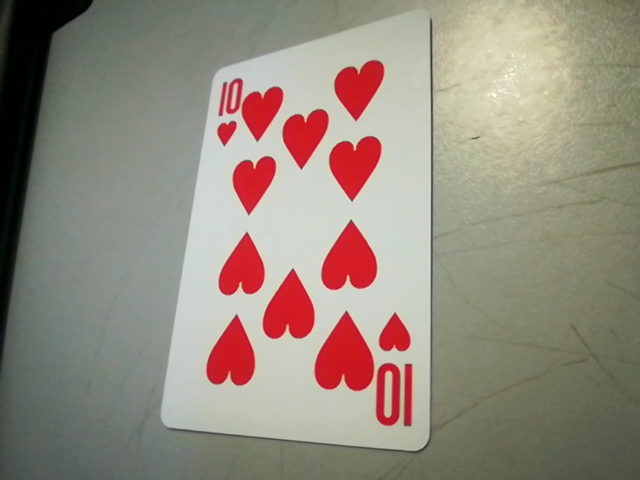hx 10: (371, 309, 427, 436)
